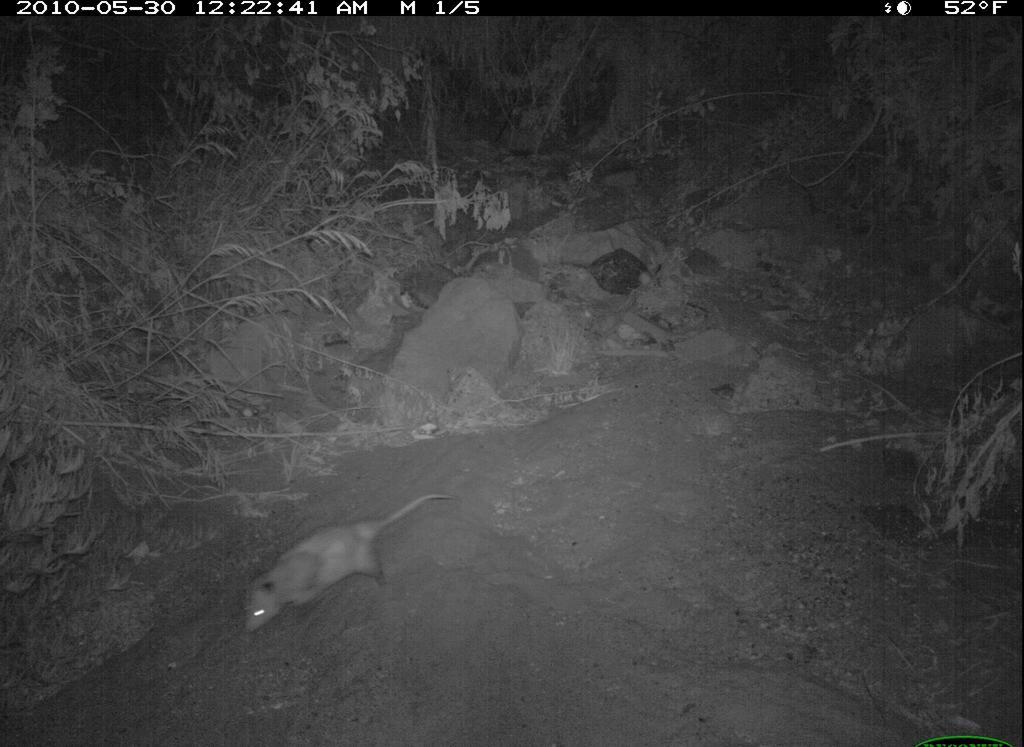opossum: (231, 487, 459, 642)
